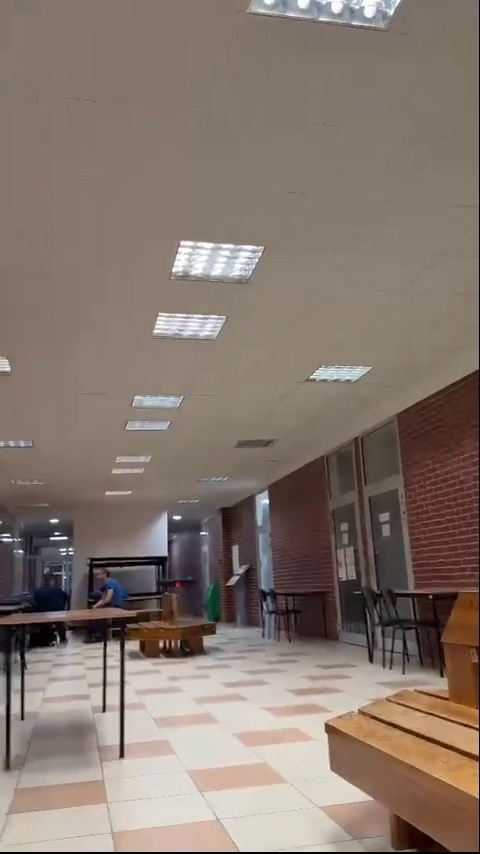drone: (161, 575, 198, 592)
no vest: (28, 567, 69, 618), (89, 563, 128, 608)
